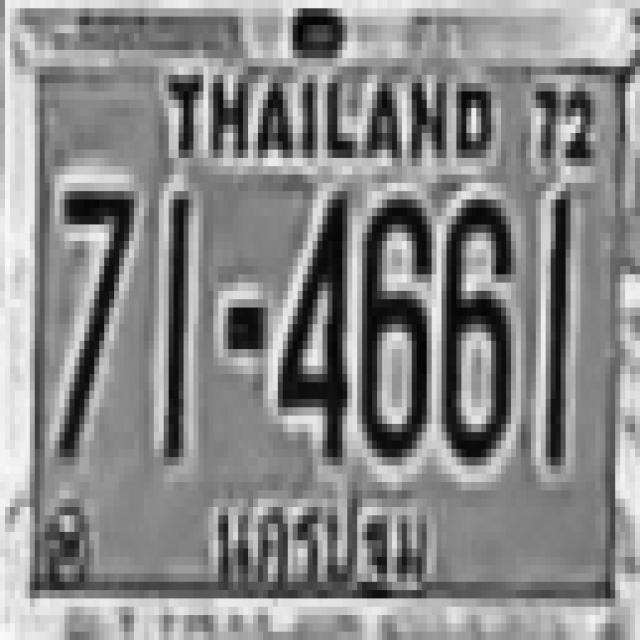1: (158, 187, 188, 453), (543, 191, 568, 457), (161, 191, 186, 457)
4: (275, 183, 345, 457)
6: (357, 191, 427, 457), (439, 191, 509, 457)
7: (57, 183, 132, 457)
NakhonPathom: (202, 472, 436, 622)
